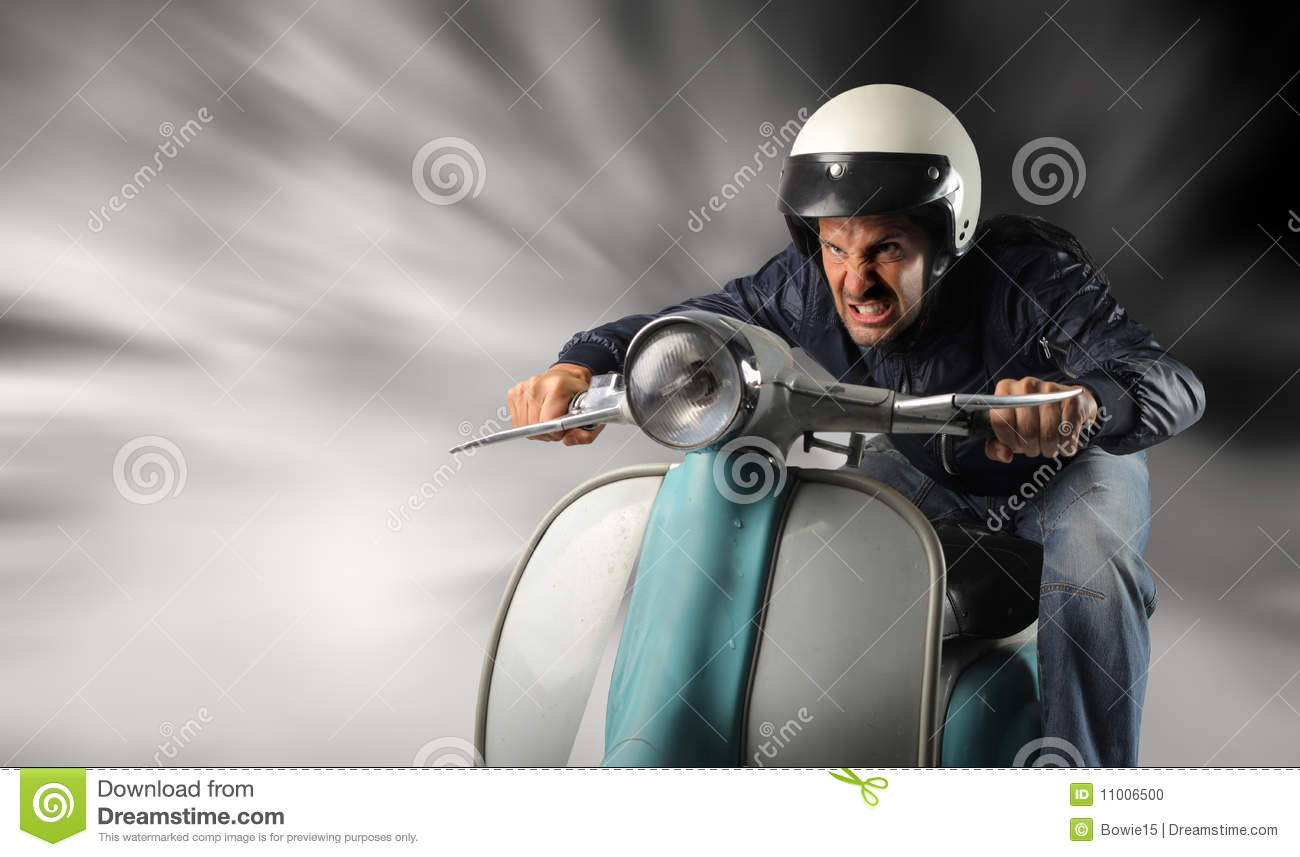helmet: (775, 93, 993, 255)
